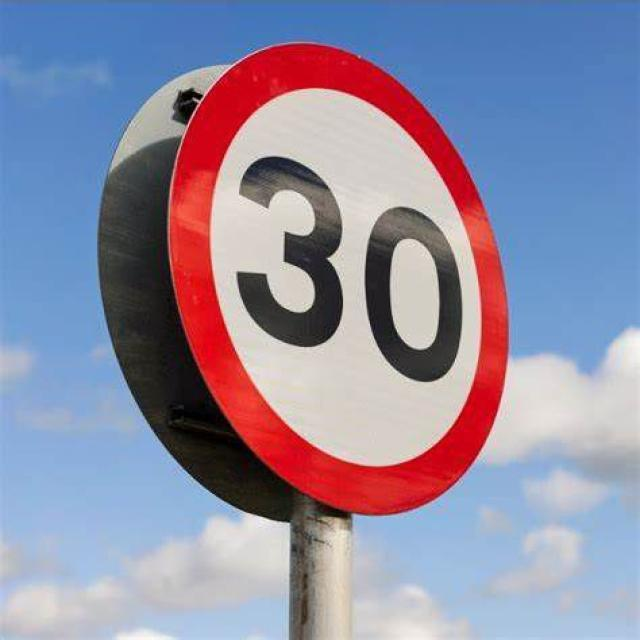speed limit 30: (141, 34, 517, 519)
